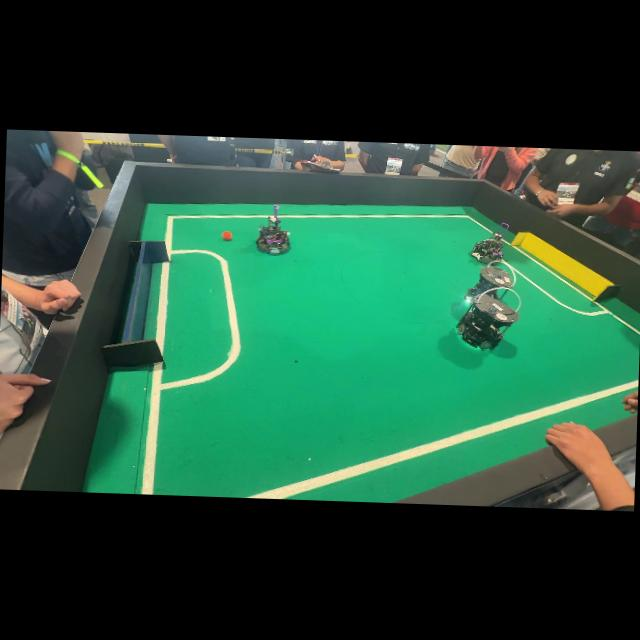ball: (221, 231, 232, 240)
goal: (101, 241, 168, 366), (511, 232, 619, 301), (294, 360, 297, 362)
robot: (455, 287, 519, 349), (462, 263, 515, 301), (471, 222, 508, 262), (256, 215, 289, 254)
